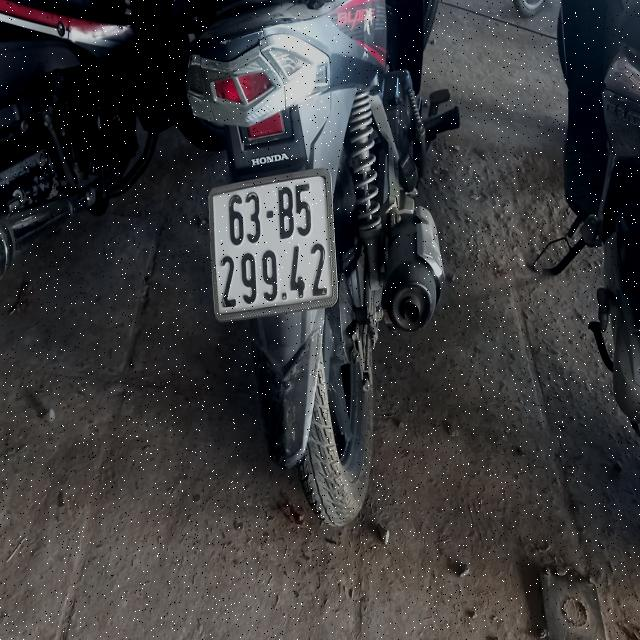2: (310, 243, 328, 296), (220, 256, 237, 309)
3: (245, 192, 260, 243)
4: (290, 245, 308, 297)
5: (294, 183, 312, 236)
6: (229, 194, 244, 244)
9: (261, 250, 277, 301), (242, 252, 256, 304)
B: (278, 186, 294, 241)
